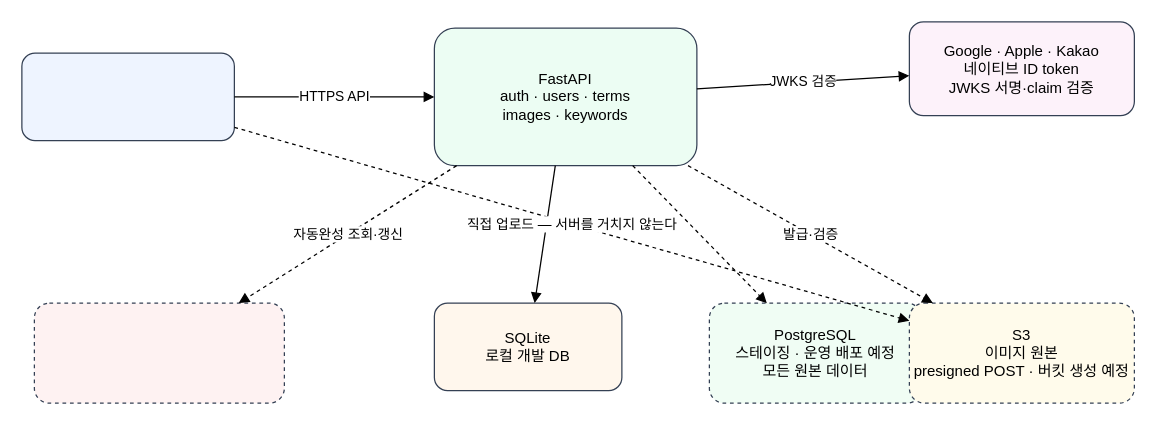
Image size: 1156x425. Some labels were removed from this diagram. The shapes that lost their labels are listed below. From the top down, each one's centre as x and y in pixels, then its label:
At (127,96): "Flutter Android / iOS 네이티브 앱만 지원".
At (158,352): "Redis 자동완성 집계 사본 없으면 PostgreSQL 집계로 폴백".
